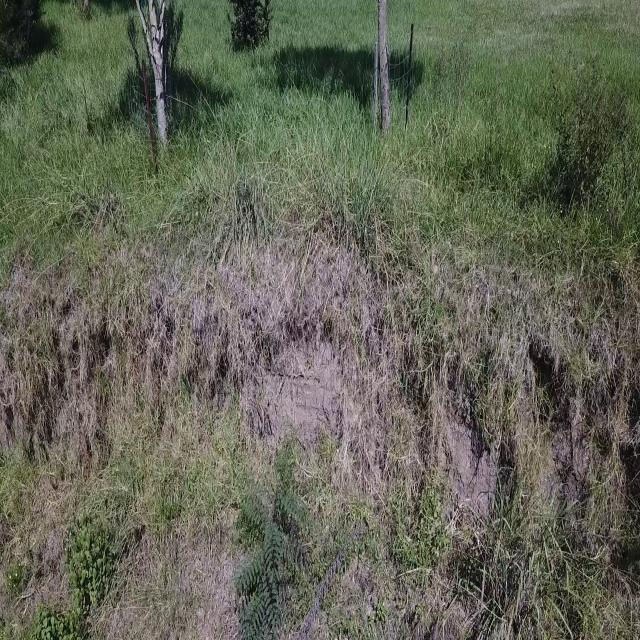Mysore-Thorn-Weed: (236, 439, 312, 640)
